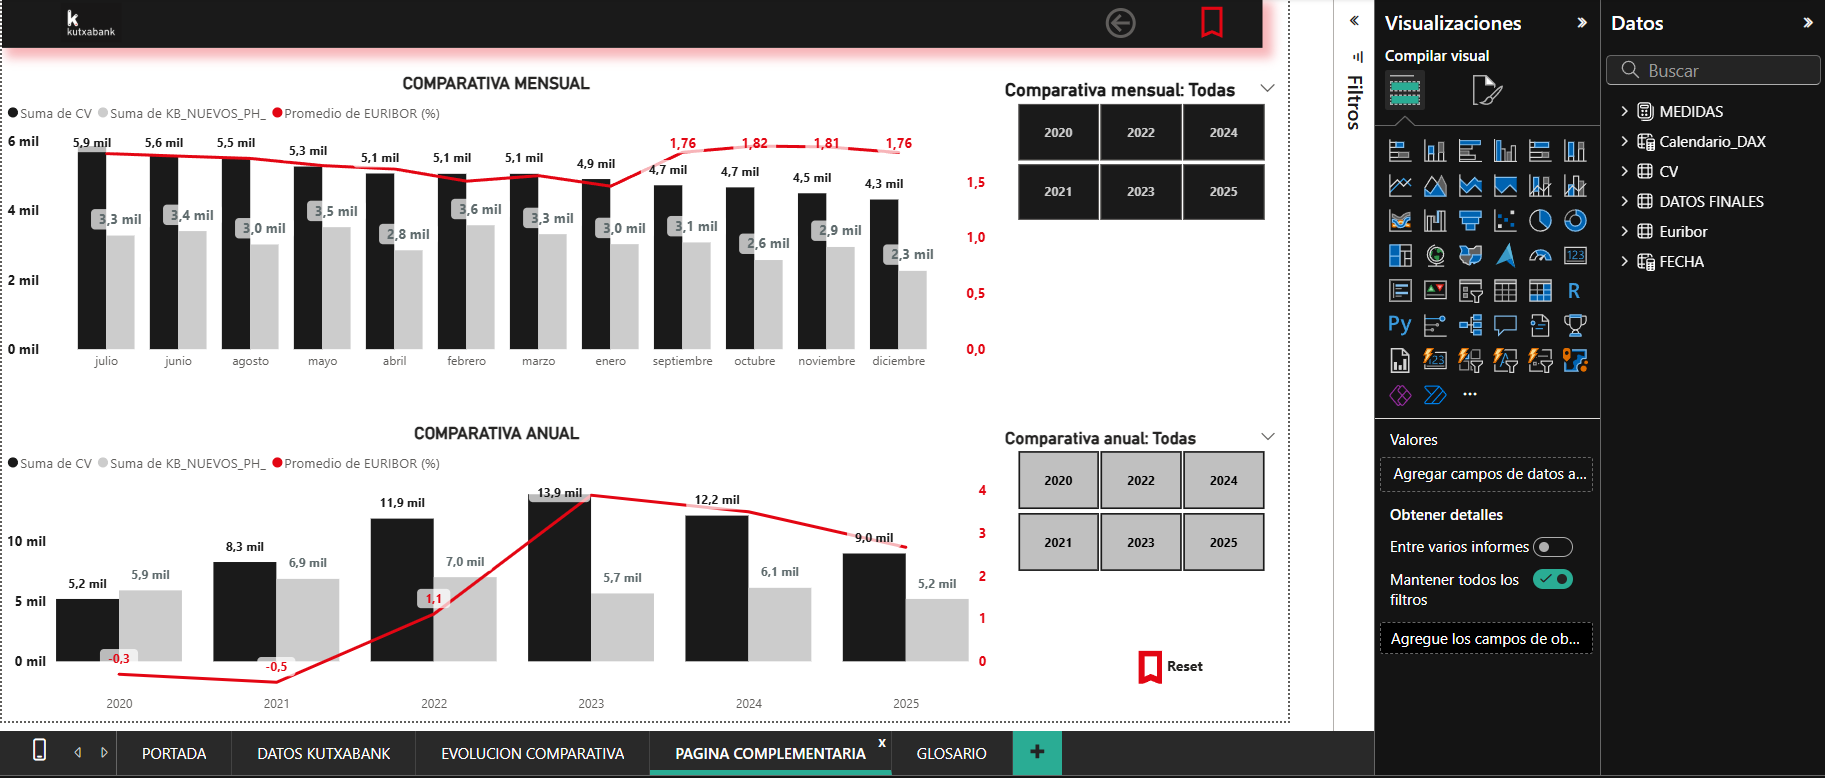

The dashboard page shown, as its layout file describes it:
{"tool":"powerbi","page":{"name":"PAGINA COMPLEMENTARIA","canvas":[1280,720],"ordinal":3},"visuals":[{"type":"lineClusteredColumnComboChart","title":"COMPARATIVA ANUAL","fields":{"Y":["Sum(CV.CV)","Sum(DATOS FINALES.KB_NUEVOS_PH_)"],"Y2":["Avg(Euribor.EURIBOR (%))"],"Category":["Calendario_DAX.AÑO"]},"box":[0,422.9,985.2,297.3],"z":0},{"type":"lineClusteredColumnComboChart","title":"COMPARATIVA MENSUAL","fields":{"Y":["Sum(CV.CV)","Sum(DATOS FINALES.KB_NUEVOS_PH_)"],"Y2":["Avg(Euribor.EURIBOR (%))"],"Category":["Calendario_DAX.MES"]},"box":[0,74.6,984,304.8],"z":1000},{"type":"slicer","fields":{"Values":["Calendario_DAX.AÑO"]},"box":[985.2,422.9,294.8,154.3],"z":2000},{"type":"shape","box":[0,0,1254.2,49.4],"z":3000},{"type":"image","box":[24.7,0,127.6,49.4],"z":4000},{"type":"actionButton","box":[1093.4,5,99.5,39.8],"z":5000},{"type":"actionButton","box":[1154.6,3.7,99.4,40.5],"z":6000},{"type":"actionButton","box":[1099.7,645.6,87.1,41.1],"z":7000},{"type":"slicer","fields":{"Values":["Calendario_DAX.AÑO"]},"box":[985.2,75.9,294.8,151.8],"z":8000},{"type":"textbox","box":[1154.4,649.3,108.2,33.6],"z":9000}]}

Visuals, with their boxes on the page's 1280x720 design canvas (x1, y1, x2, y2). These are canvas units, not pixel positions in the 1825x778 screenshot, which may show the page scaled, cropped or inside an application window:
"COMPARATIVA ANUAL" lineClusteredColumnComboChart: box(0, 423, 985, 720)
"COMPARATIVA MENSUAL" lineClusteredColumnComboChart: box(0, 75, 984, 379)
slicer - Calendario_DAX.AÑO: box(985, 423, 1280, 577)
shape: box(0, 0, 1254, 49)
image: box(25, 0, 152, 49)
actionButton: box(1093, 5, 1193, 45)
actionButton: box(1155, 4, 1254, 44)
actionButton: box(1100, 646, 1187, 687)
slicer - Calendario_DAX.AÑO: box(985, 76, 1280, 228)
textbox: box(1154, 649, 1263, 683)
